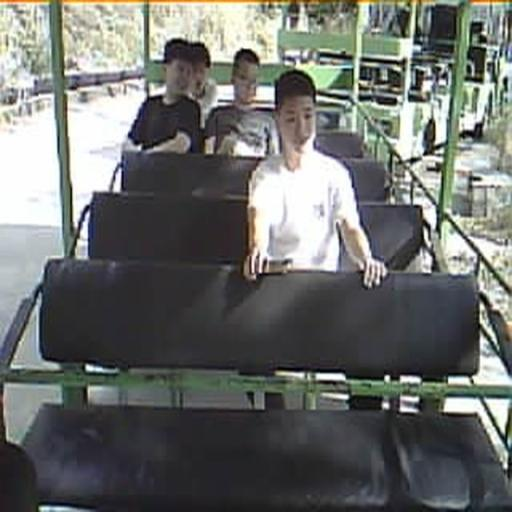persona: (244, 68, 388, 288), (122, 37, 206, 156), (204, 47, 282, 158), (186, 42, 220, 128)
